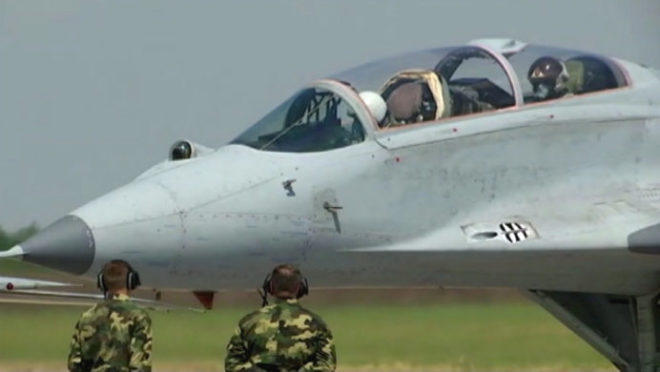Mig-29: (8, 15, 655, 360)
